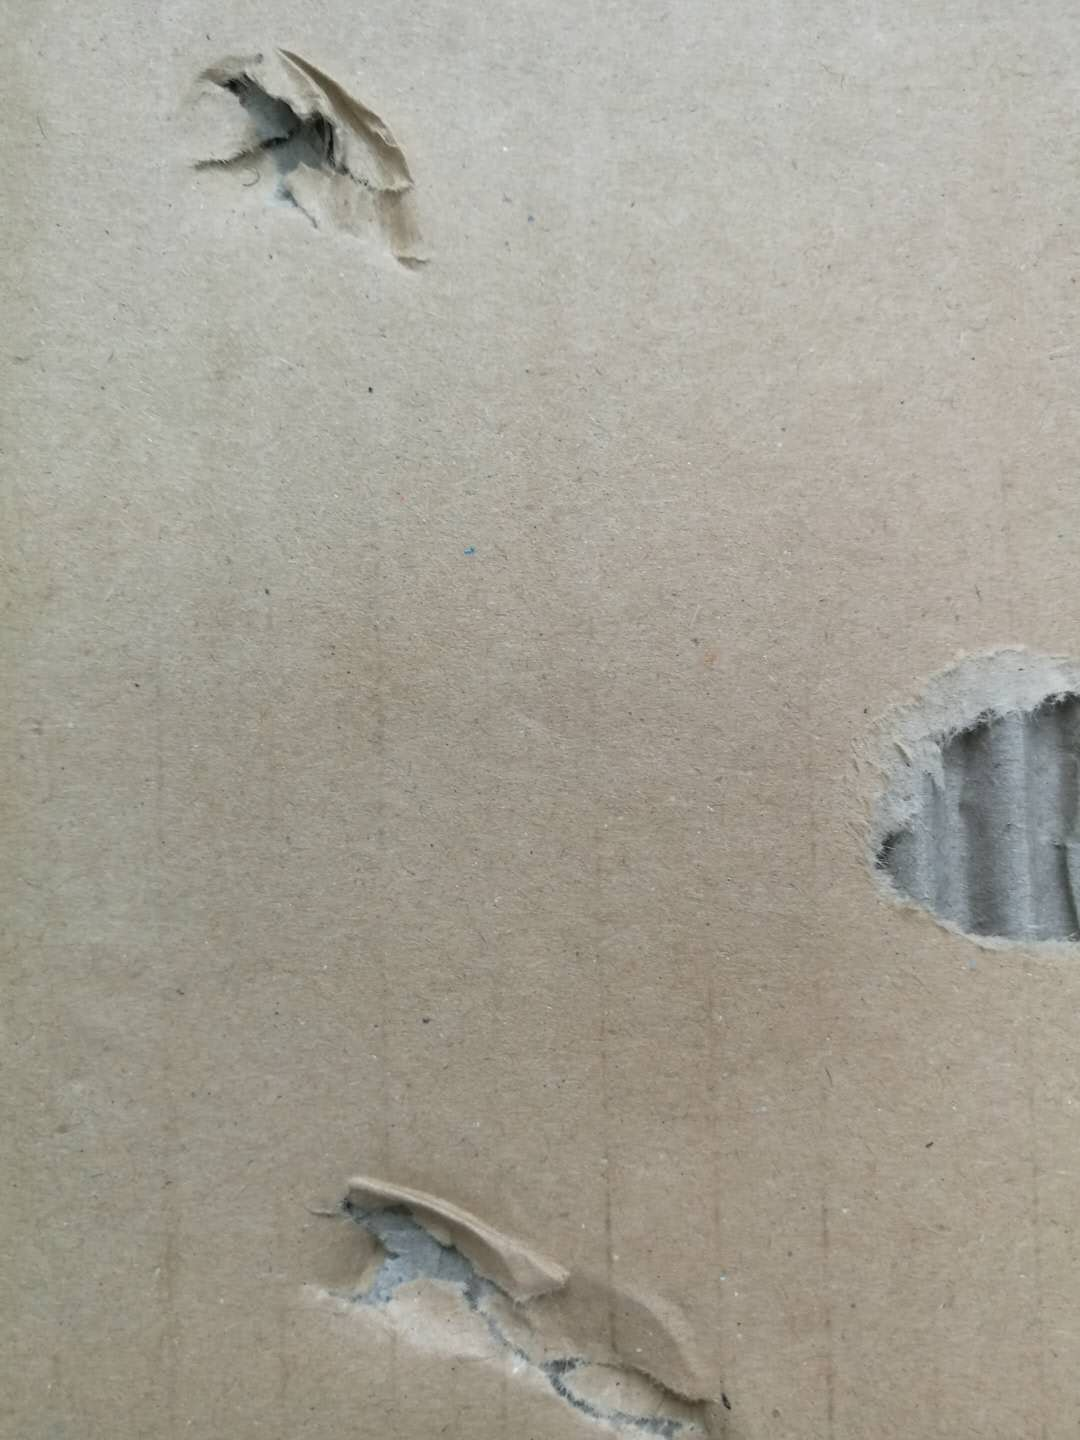defect: (271, 1147, 793, 1440), (825, 624, 1080, 986), (155, 25, 469, 312)
